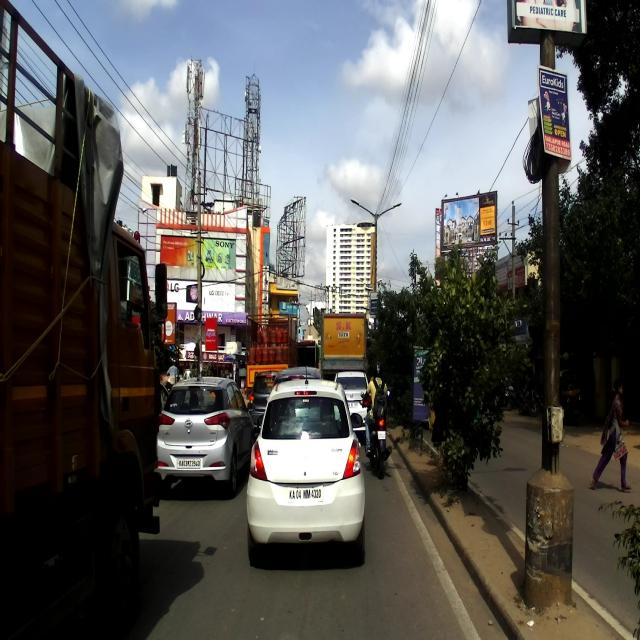Car_Hyundai: (155, 376, 254, 496)
Car_Maruti-Suzuki: (246, 358, 366, 565)
truck: (0, 0, 169, 639), (320, 311, 366, 373)
